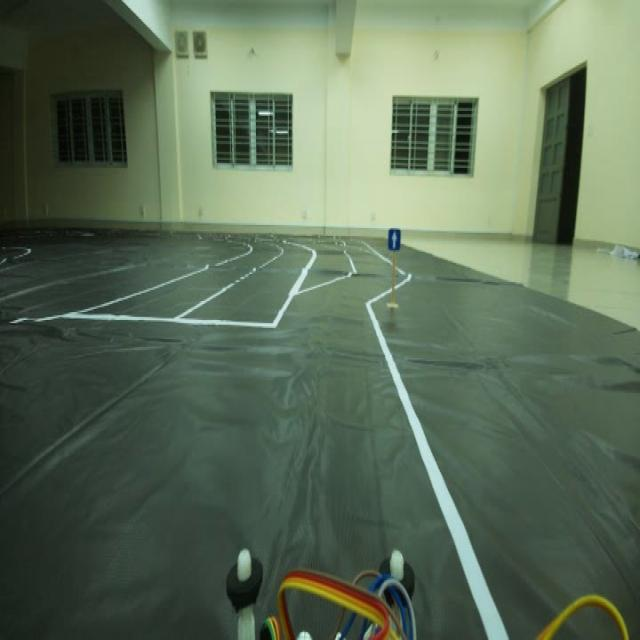onewayroad: (384, 224, 402, 256)
